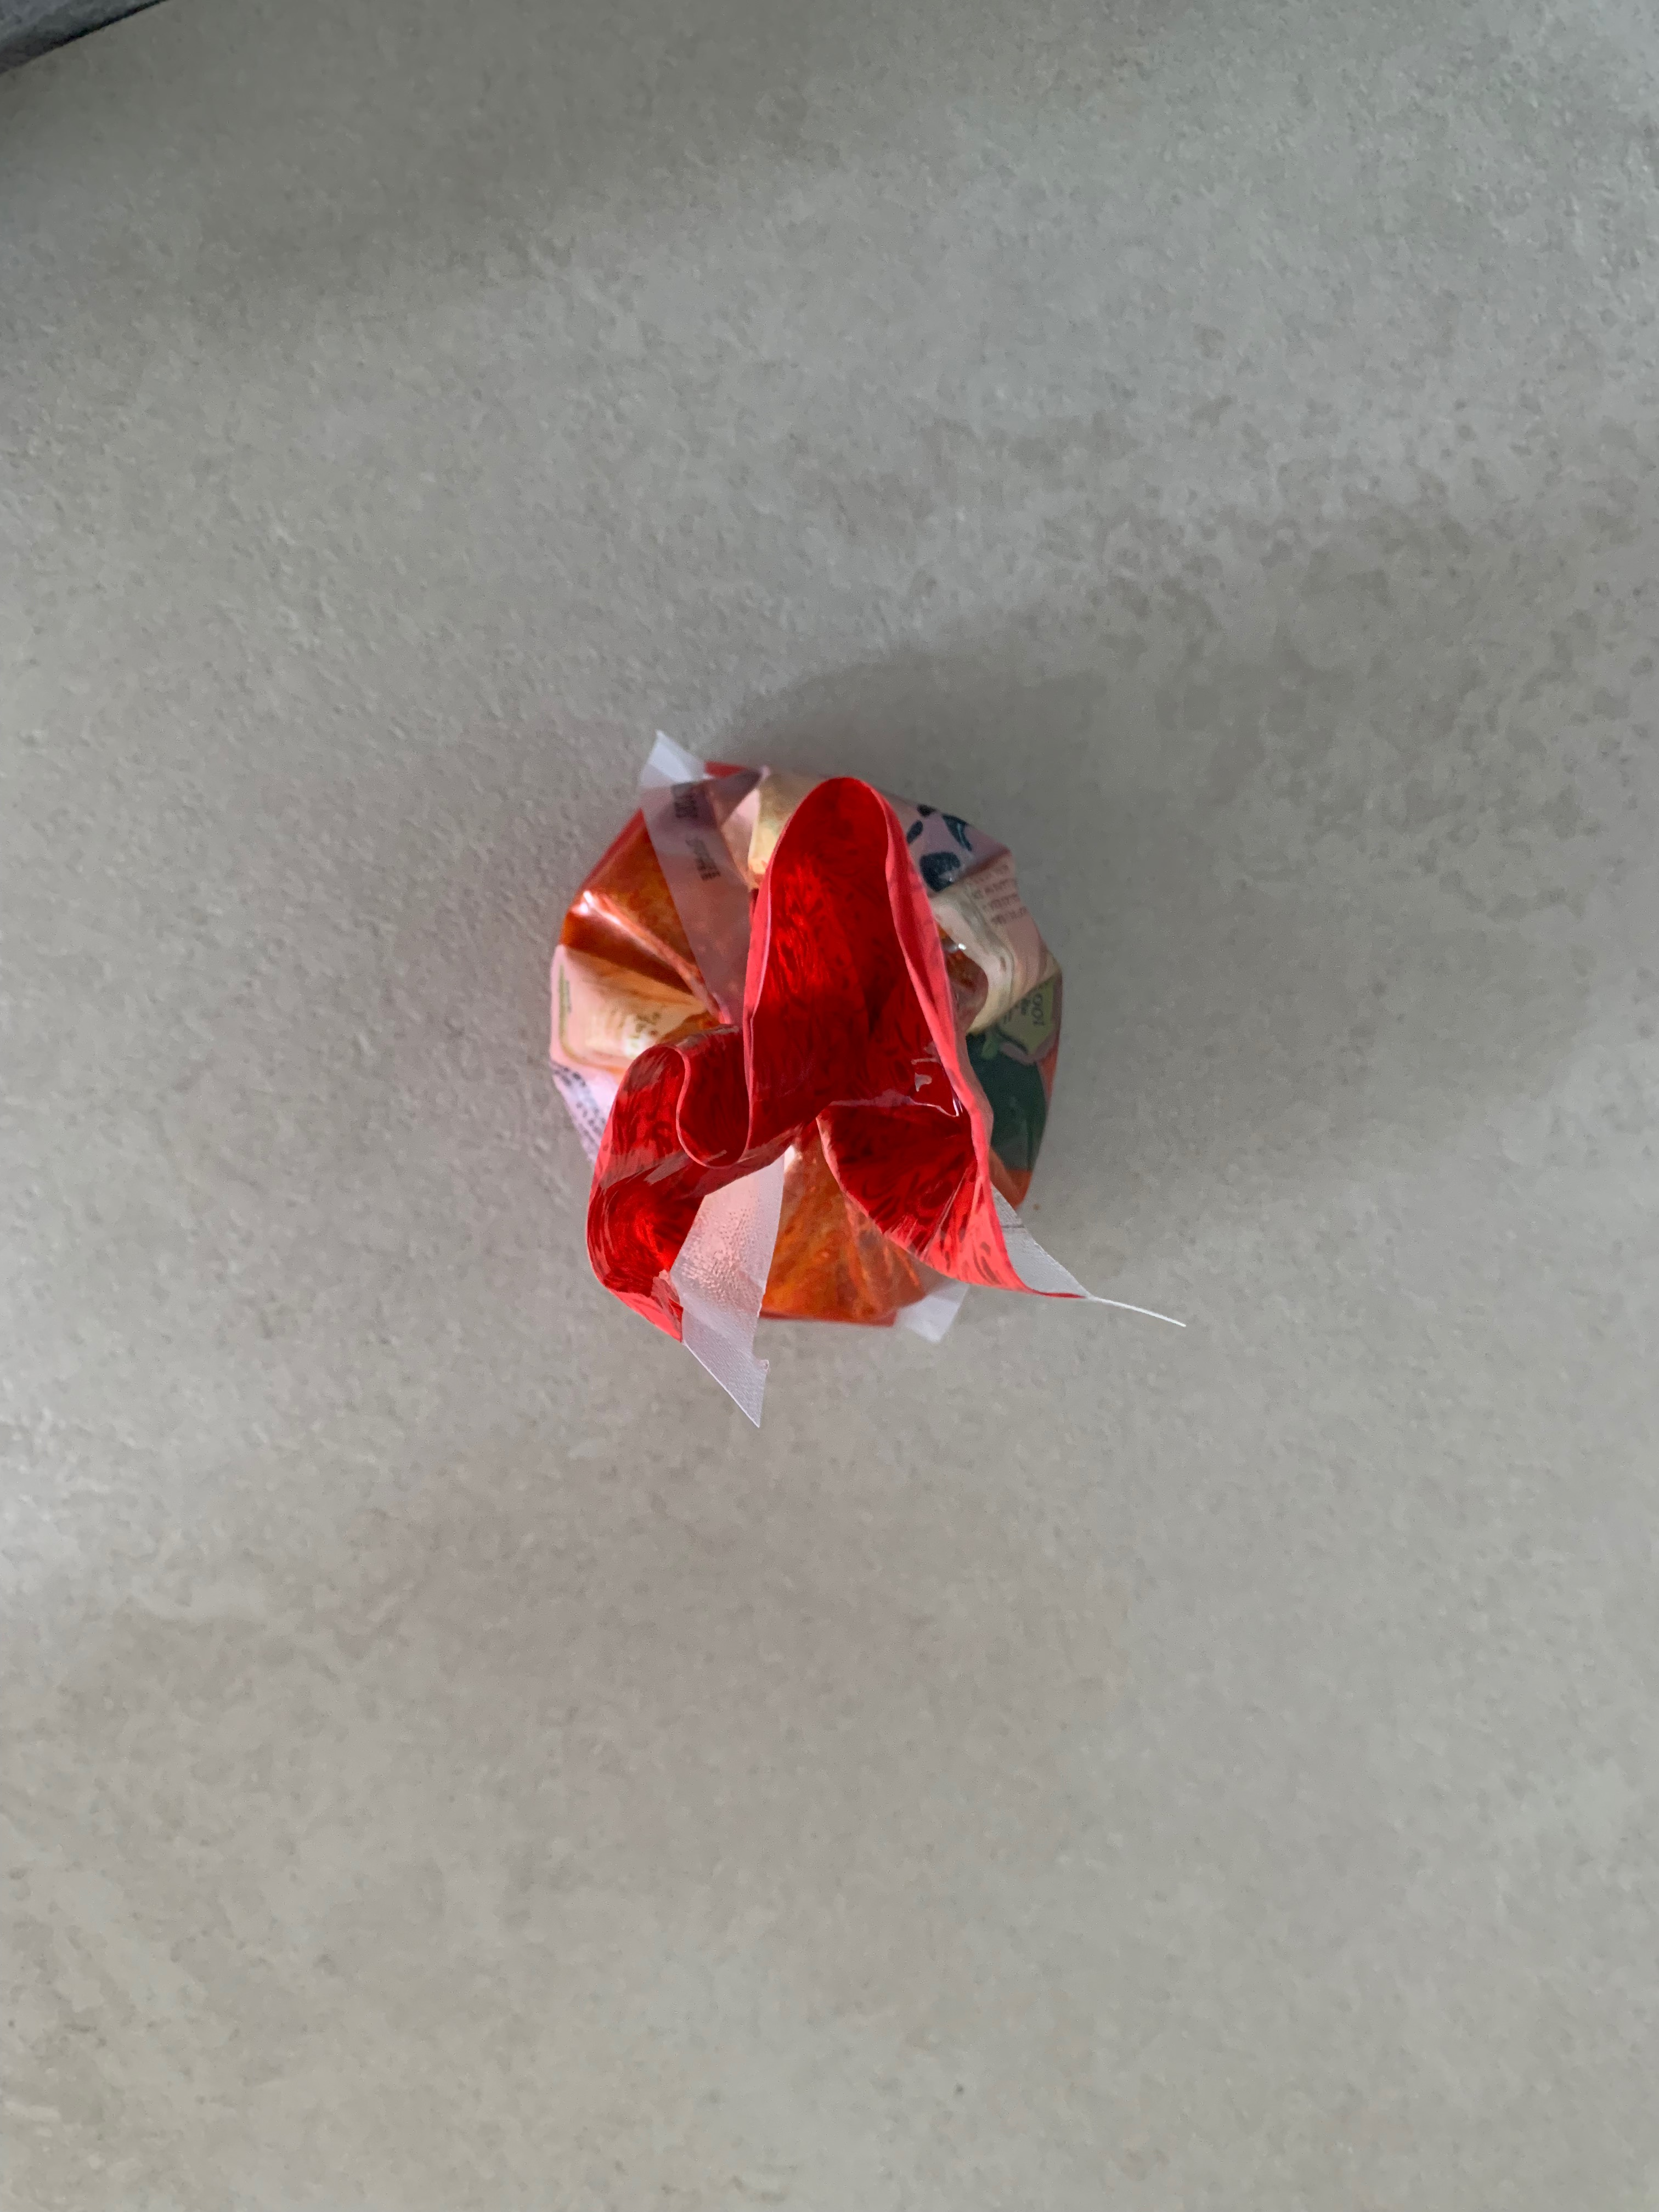kimchi: (542, 761, 1072, 1336)
